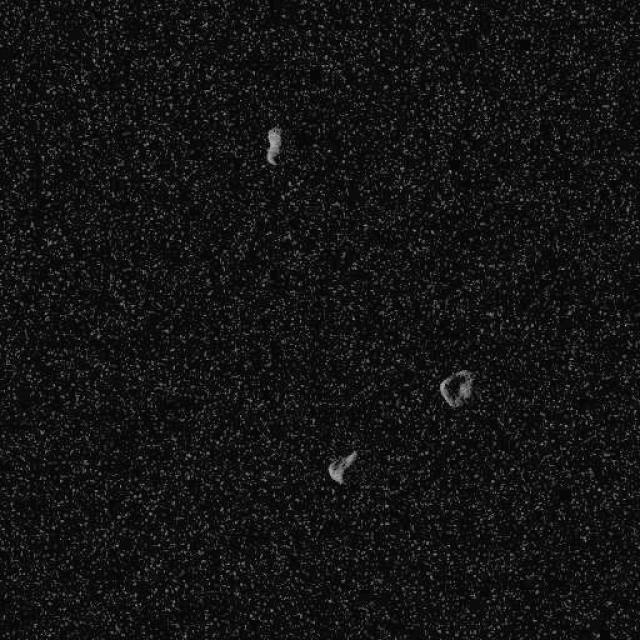D2: (438, 368, 473, 408), (327, 449, 358, 485), (265, 125, 281, 165)
